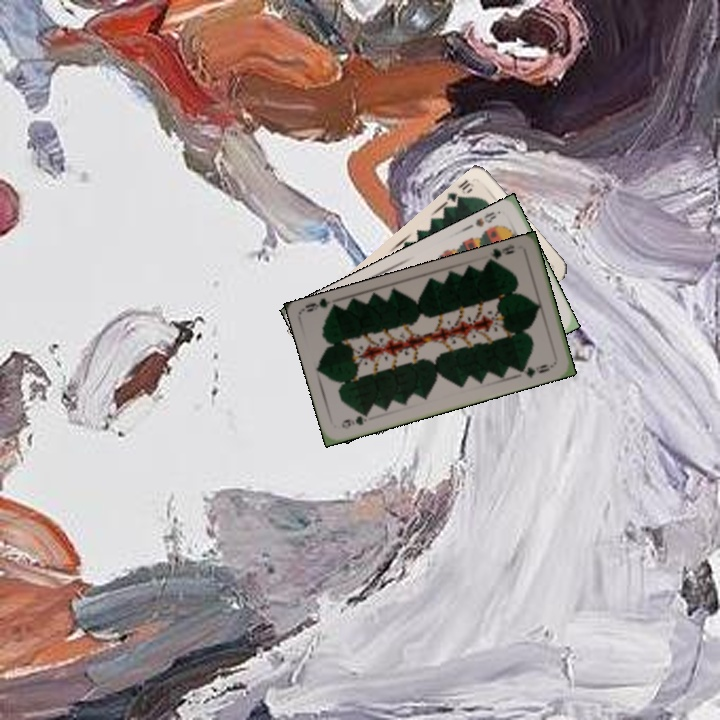G10: (442, 175, 477, 210)
G9: (484, 241, 517, 266), (337, 409, 371, 432)
S8: (471, 207, 499, 229)
